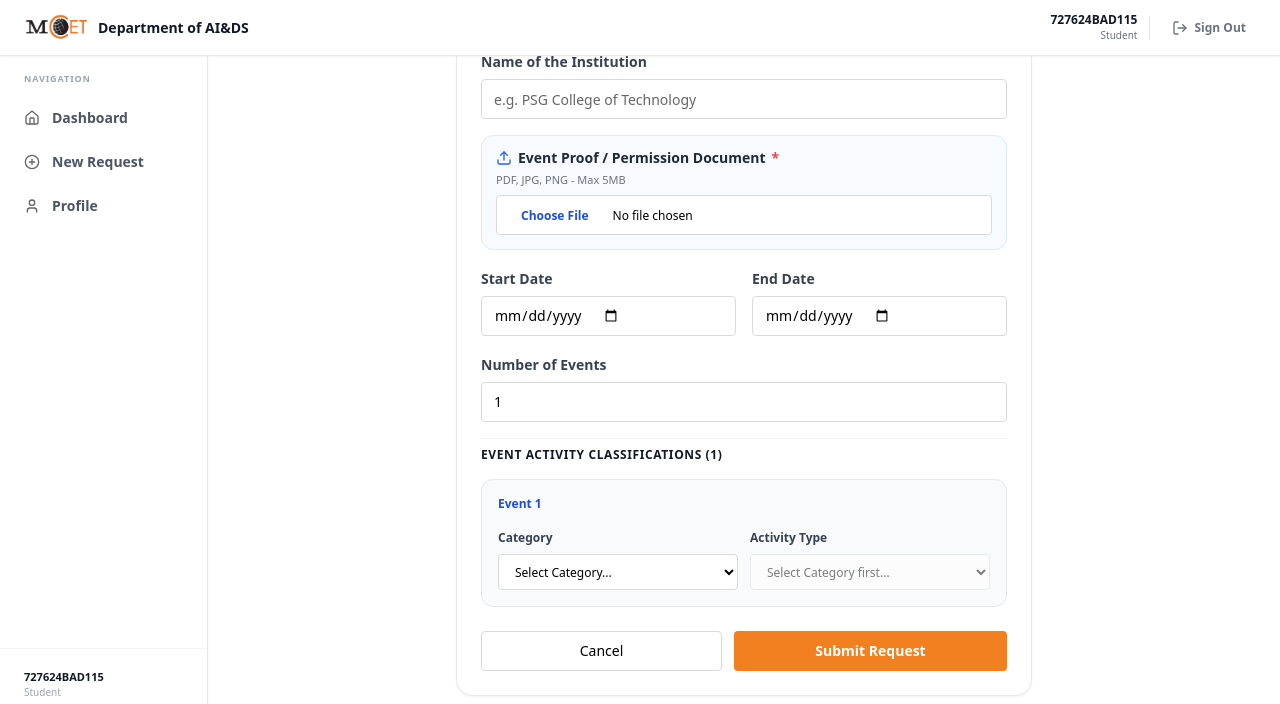
Test: NewApplication Form Validations › shows error messages for empty fields and blocks submission
(page scrolled)
Step 1. Click the button "Submit Request" → click(870, 650), box [734,630,1007,670]
(page scrolled)
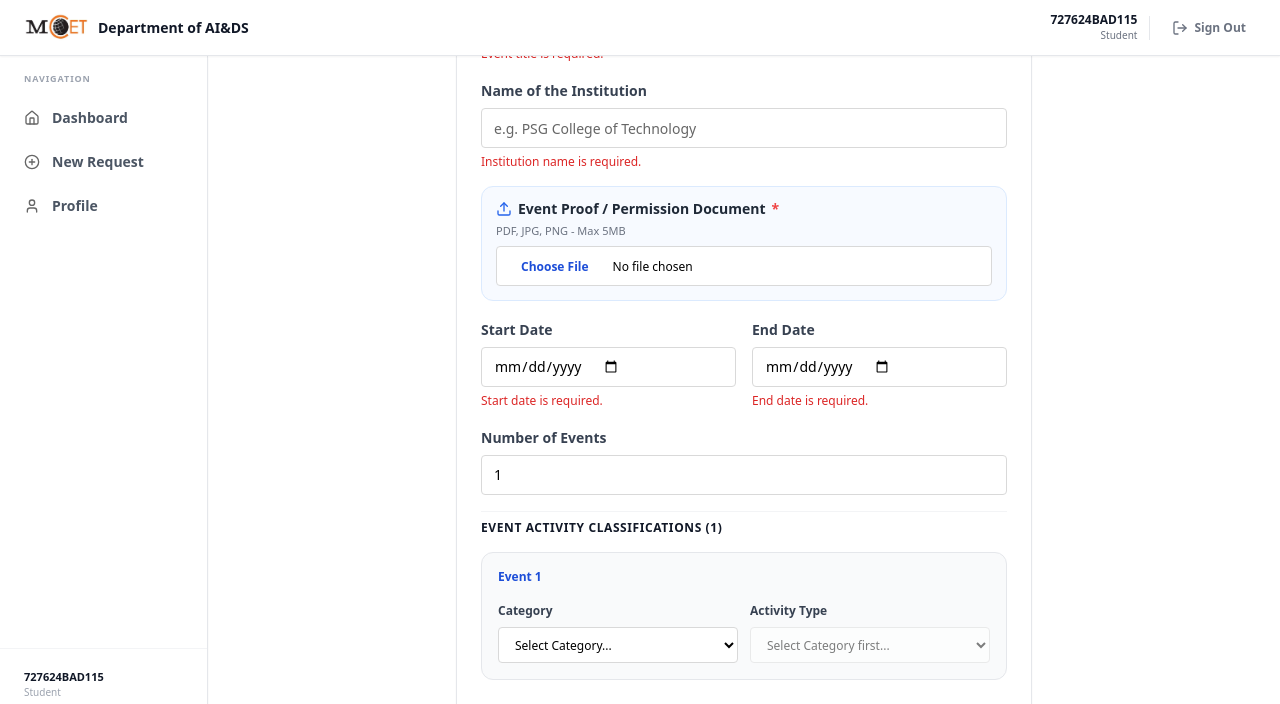
Expected: the text "Event title is required." is shown, [481,45,604,62]
Expected: the text "Institution name is required." is shown, [481,153,641,170]
Expected: the text "Start date is required." is shown, [481,392,603,408]
